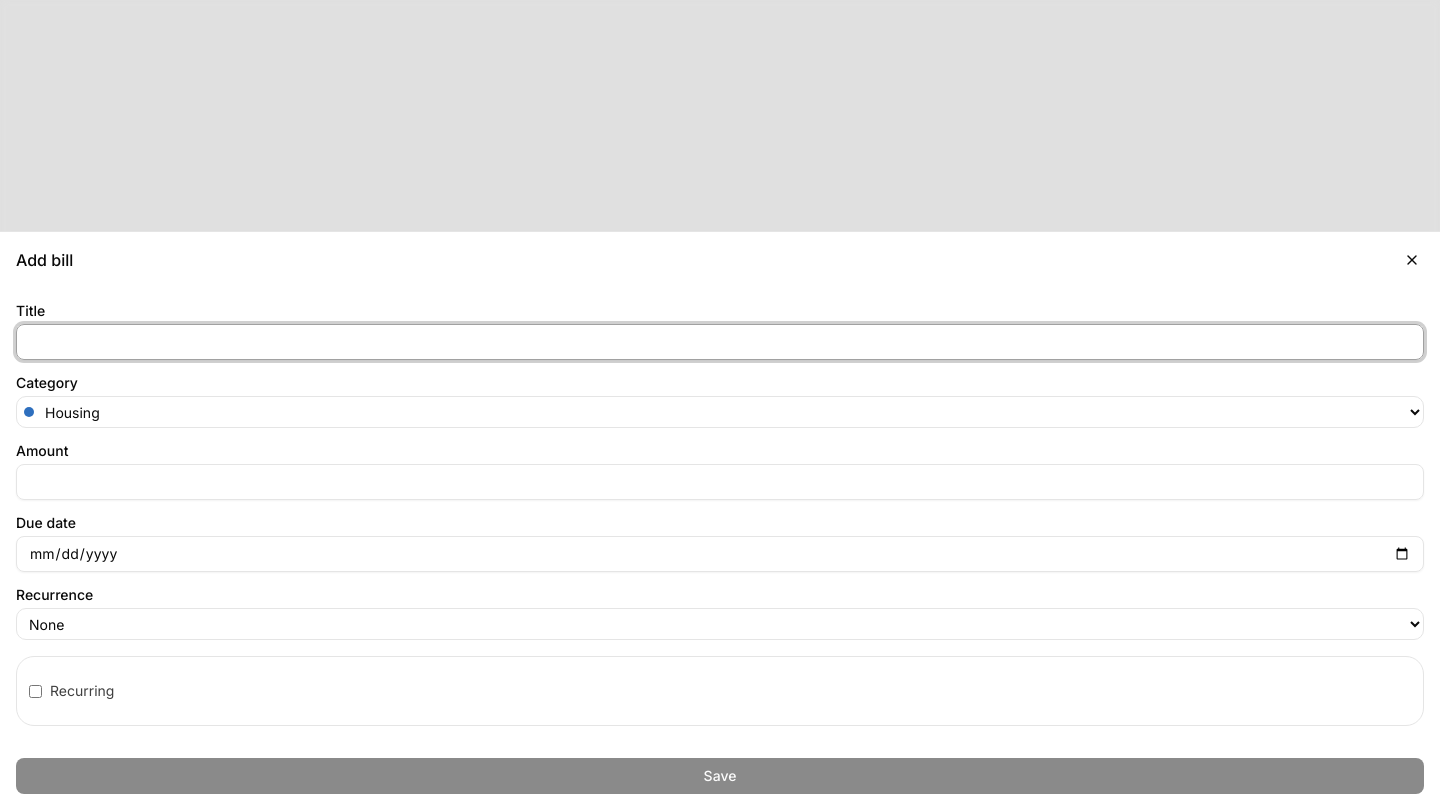
Test case: BillForm › disables save until required fields are filled
Expected: the button "Save" is disabled, [16,758,1424,794]
Type "Rent" into the field labelled "Title" at (720, 342), box [16,324,1424,360]
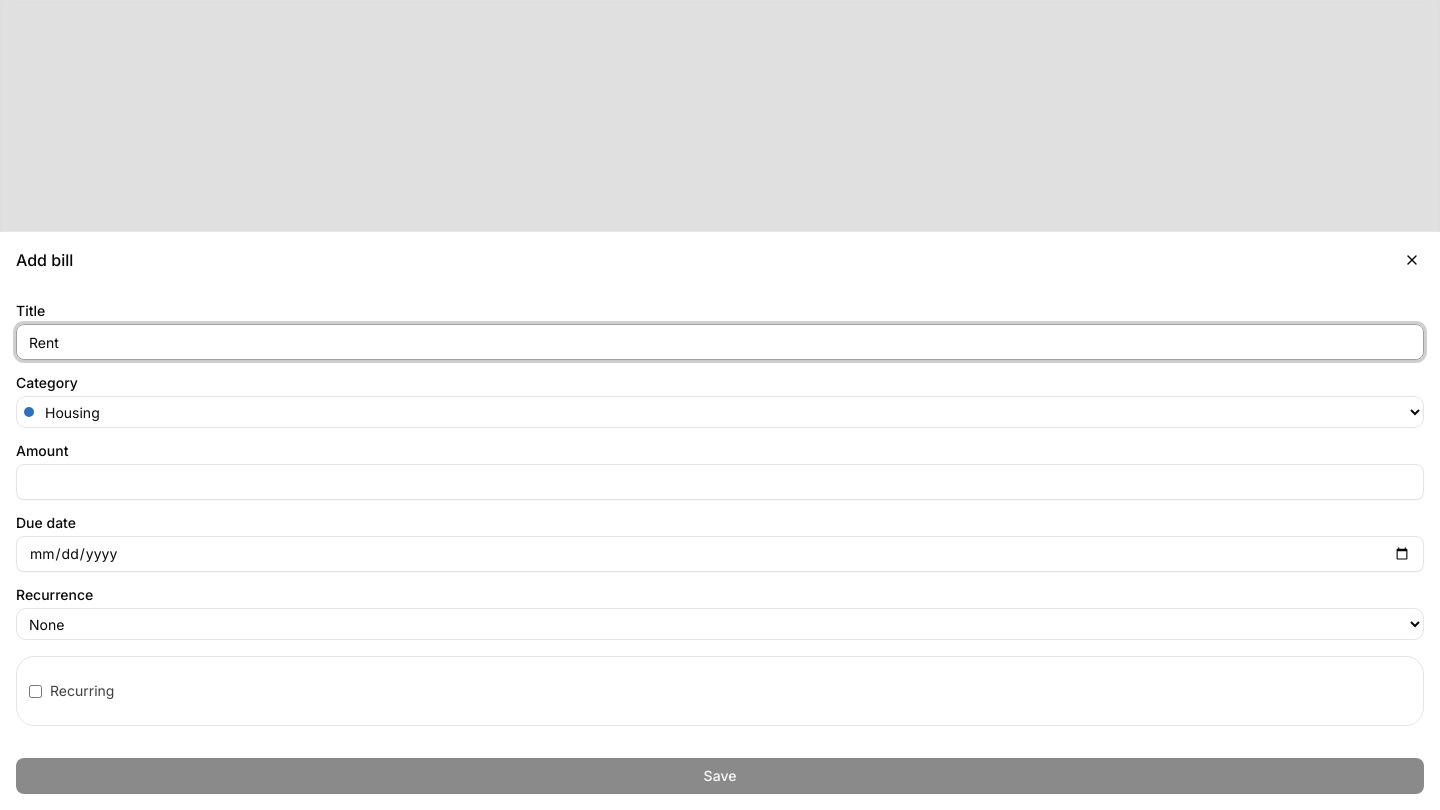
Type "1450" into the field labelled "Amount" at (720, 482), box [16,464,1424,500]
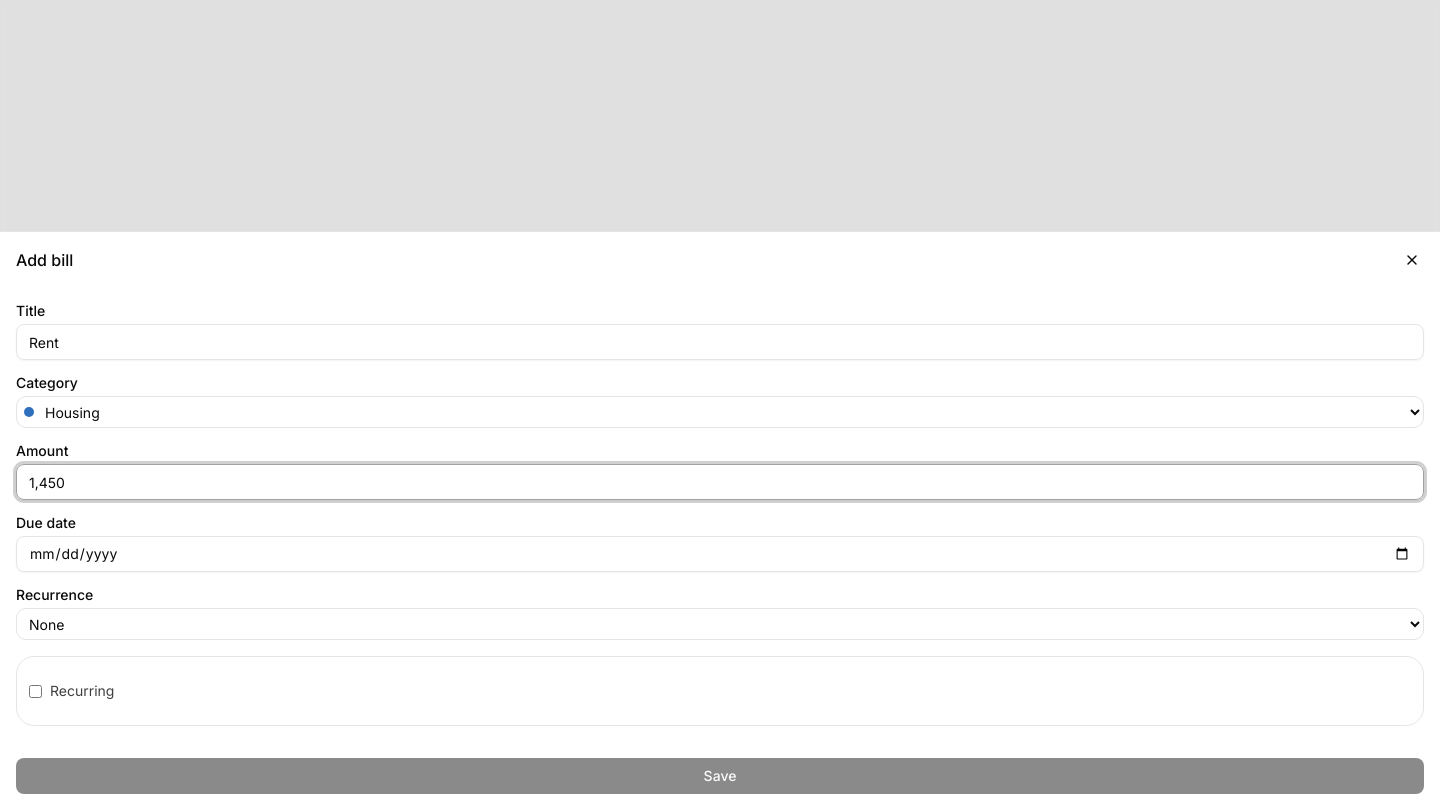
Type "2026-08-16" into the date field labelled "Due date" at (720, 554), box [16,536,1424,572]
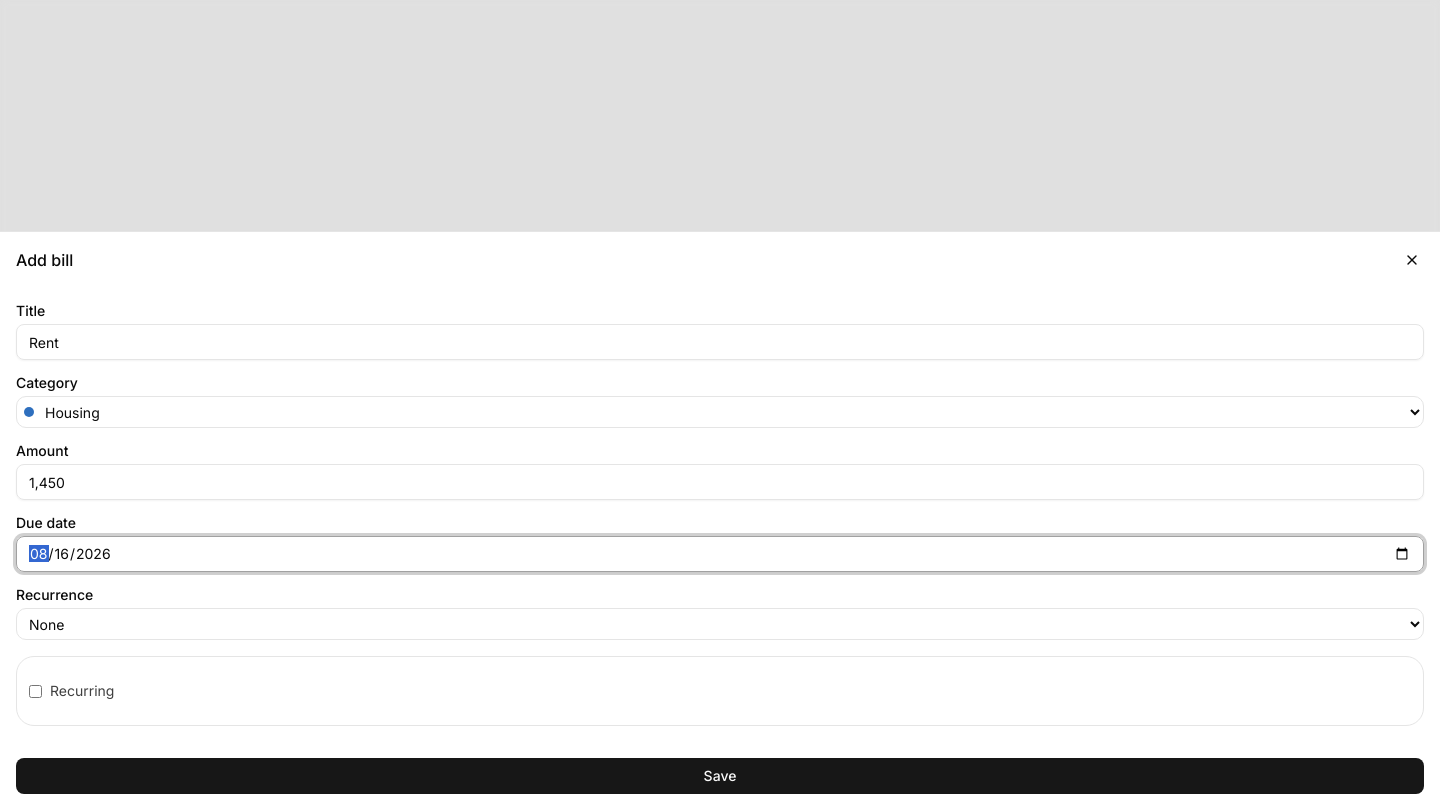
Expected: the button "Save" is enabled, [16,758,1424,794]
